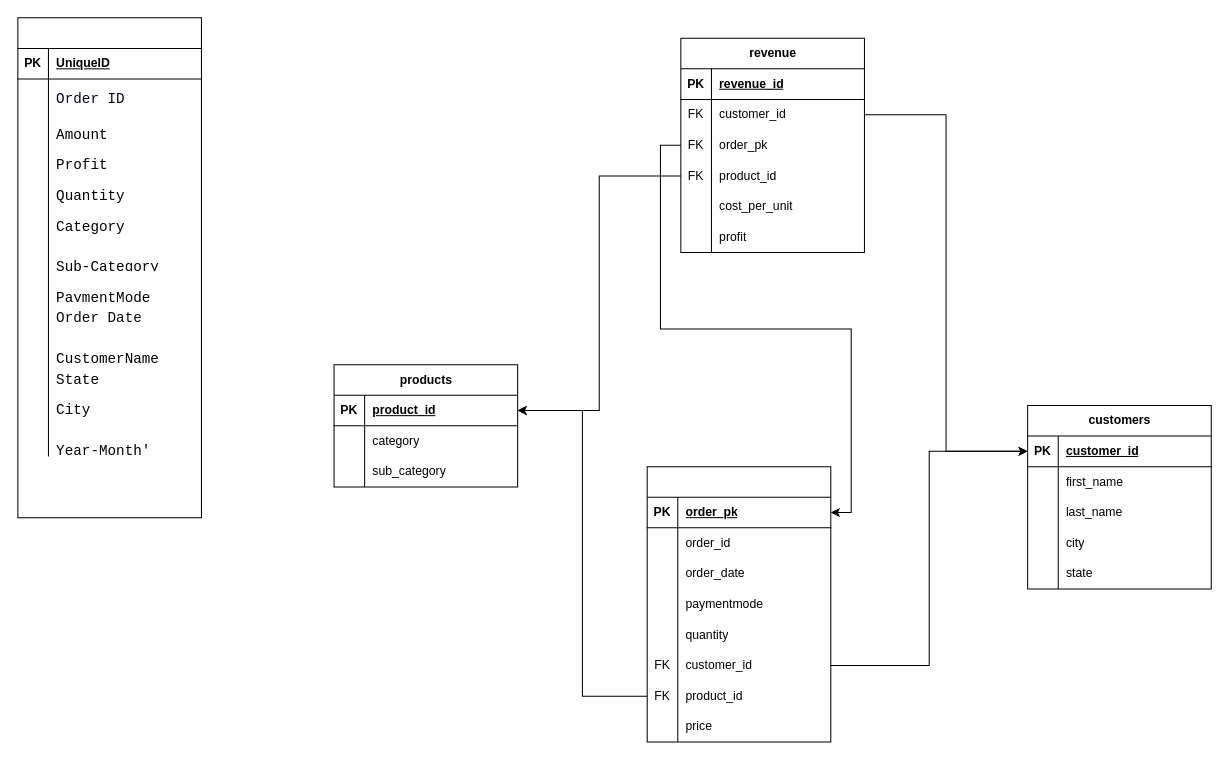
This 1229x760 diagram has some shape labels left out. Each missing label, with the box of its shape:
orders: (646, 466, 831, 742)
ss: (17, 17, 201, 518)
